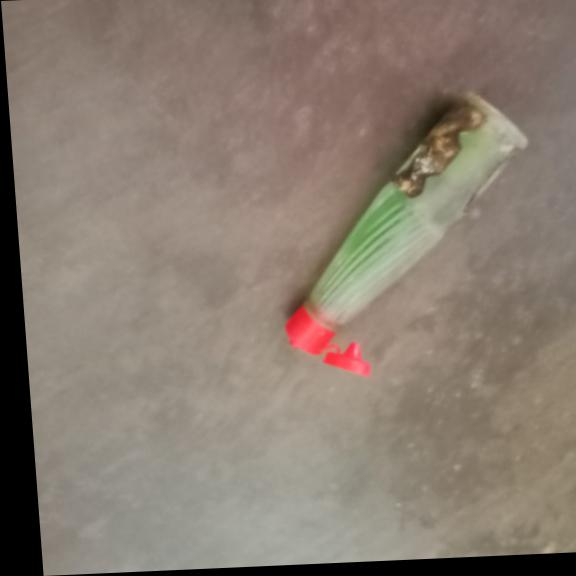Plastik: (267, 87, 545, 355)
